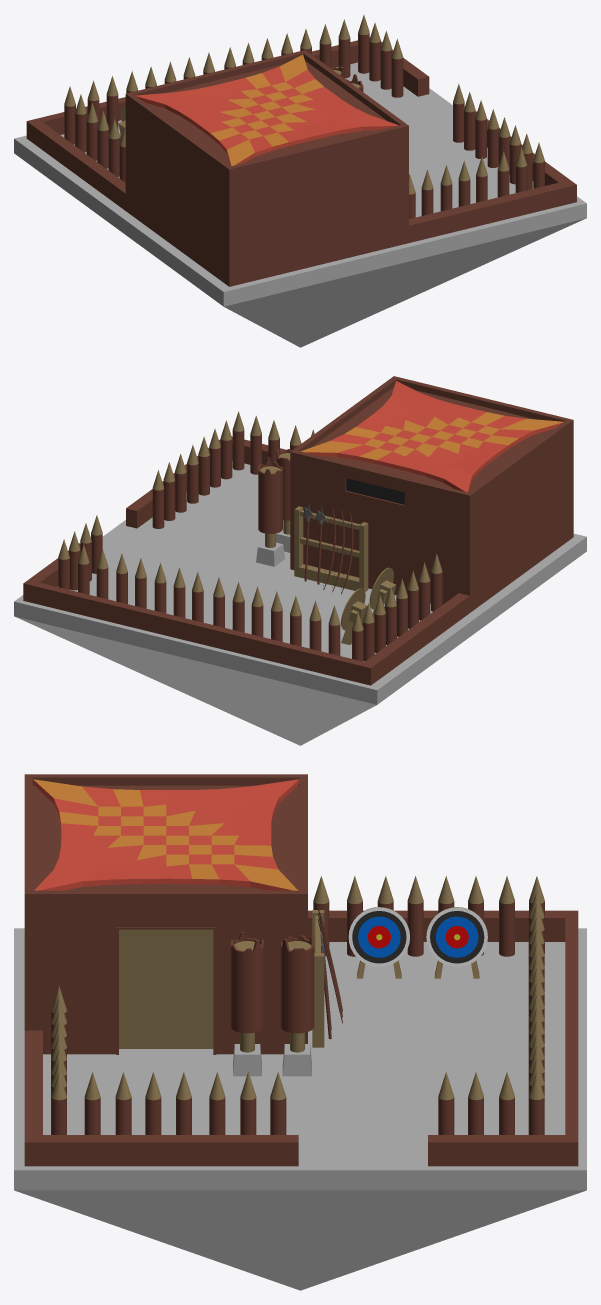
File: Building Barracks T1.fbx
The picture shows the model from 3 angles, top to bottom: view 1: azimuth 30°, elevation 25°; view 2: azimuth 150°, elevation 25°; view 3: azimuth 270°, elevation 25°; orthographic projection. The views are drawn at different scales.
Visible parts, largest first — view 1: Barracks T1; view 2: Barracks T1; view 3: Barracks T1.
Boxes of the visible parts, left/top/right/bottom form: Barracks T1: left=14, top=15, right=586, bottom=347; Barracks T1: left=14, top=376, right=586, bottom=745; Barracks T1: left=14, top=774, right=586, bottom=1290.
Size of the model in its own units: 1599 by 1238 by 1599.
